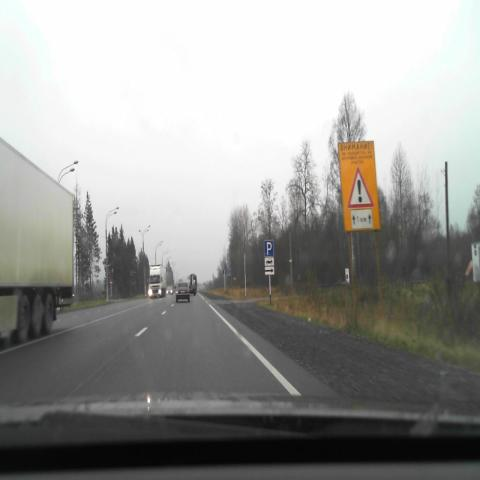1_33: (348, 166, 374, 208)
